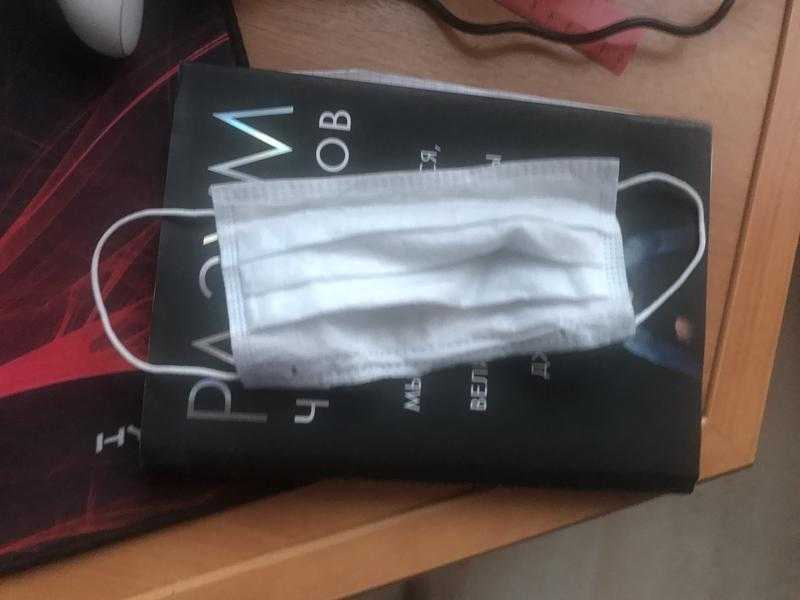medical_mask: (93, 158, 708, 390)
